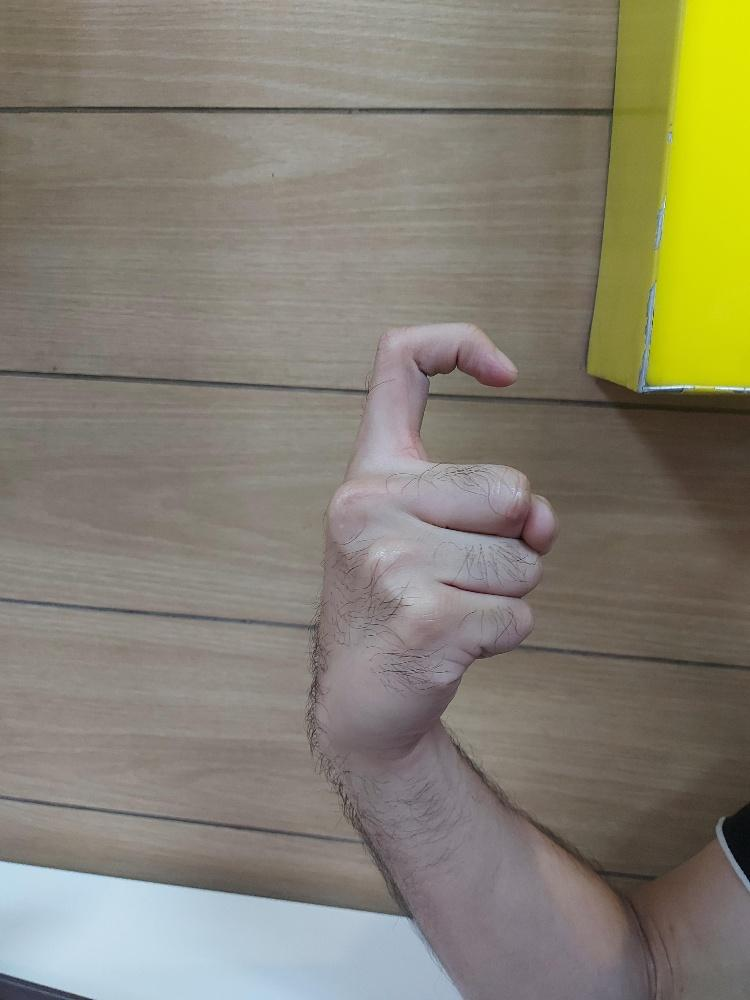x: (306, 317, 557, 758)
